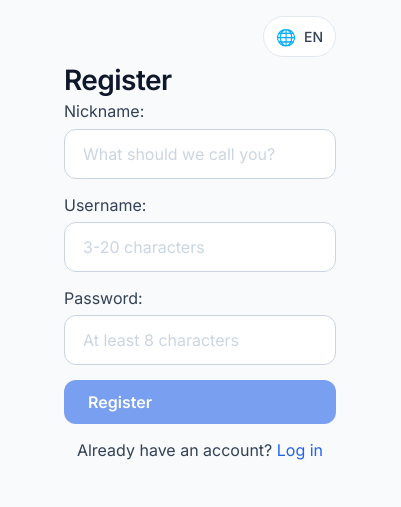
RegisterPage › username format validation › shows error for invalid characters
Type "invalid-name" into the field labelled "Username:" at (200, 247), box [64,222,336,272]
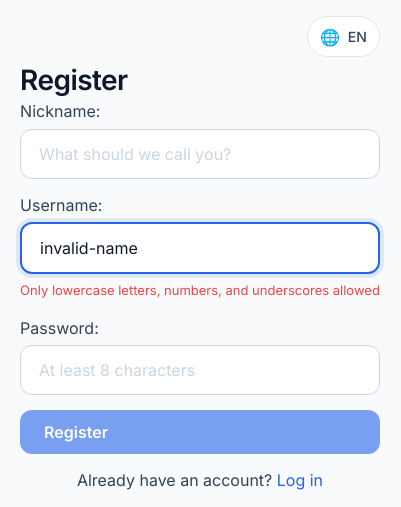
Check: the text "Only lowercase letters, numbers, and underscores allowed" is shown, box [20,279,380,302]
